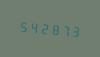eight: (48, 19, 57, 37)
five: (17, 17, 26, 34)
four: (27, 18, 36, 35)
seven: (58, 20, 67, 38)
three: (68, 21, 77, 39)
two: (38, 18, 47, 36)
